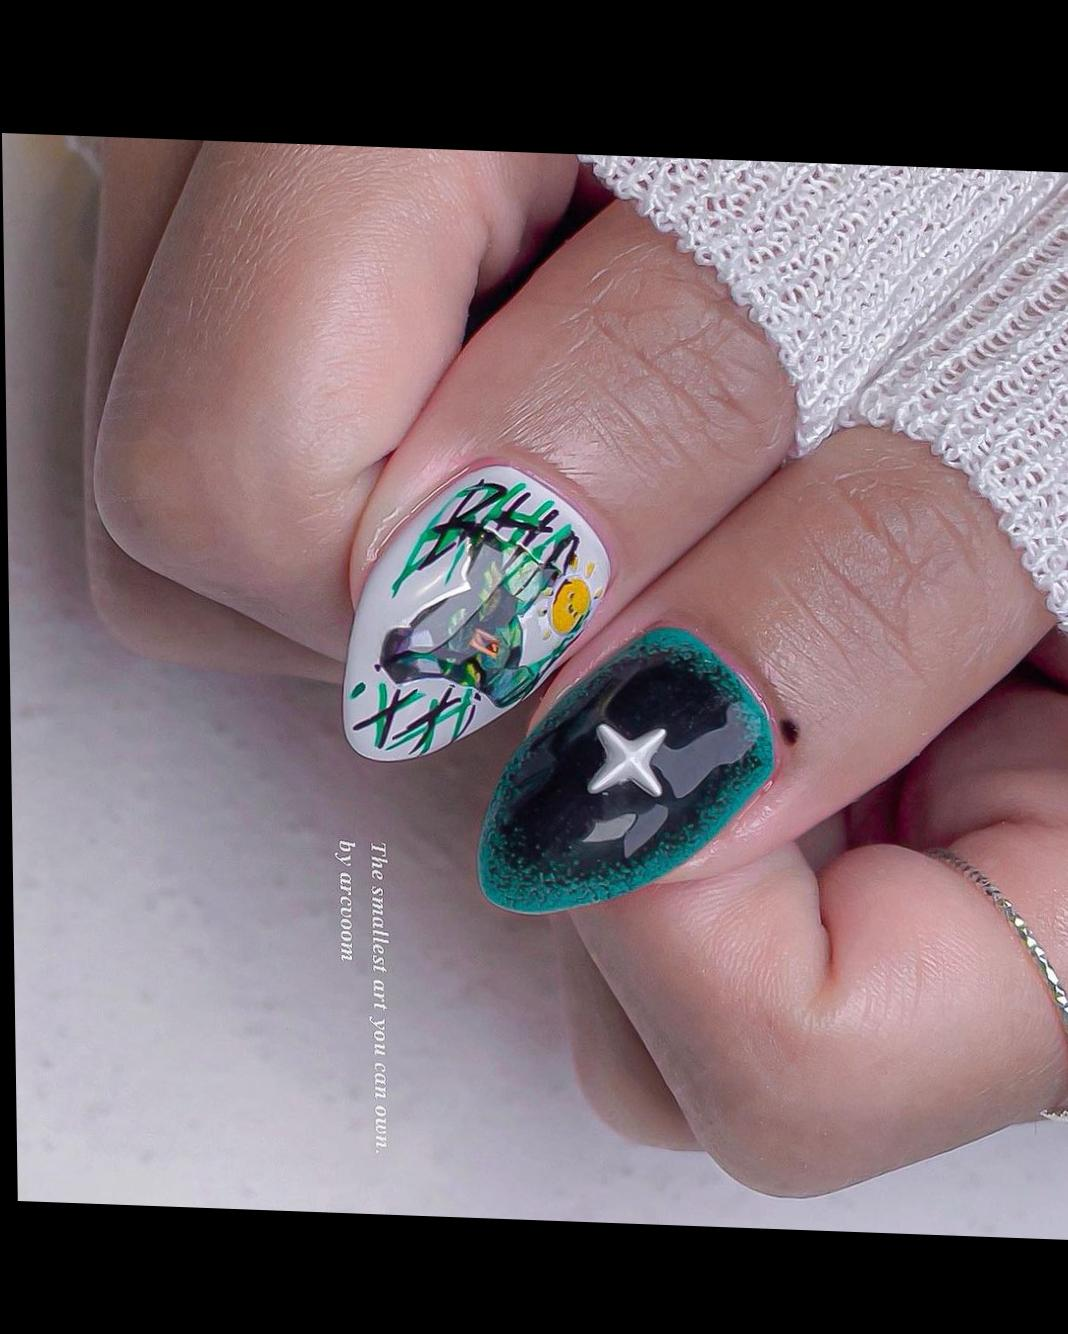nail: (471, 616, 785, 924), (337, 451, 619, 772)
